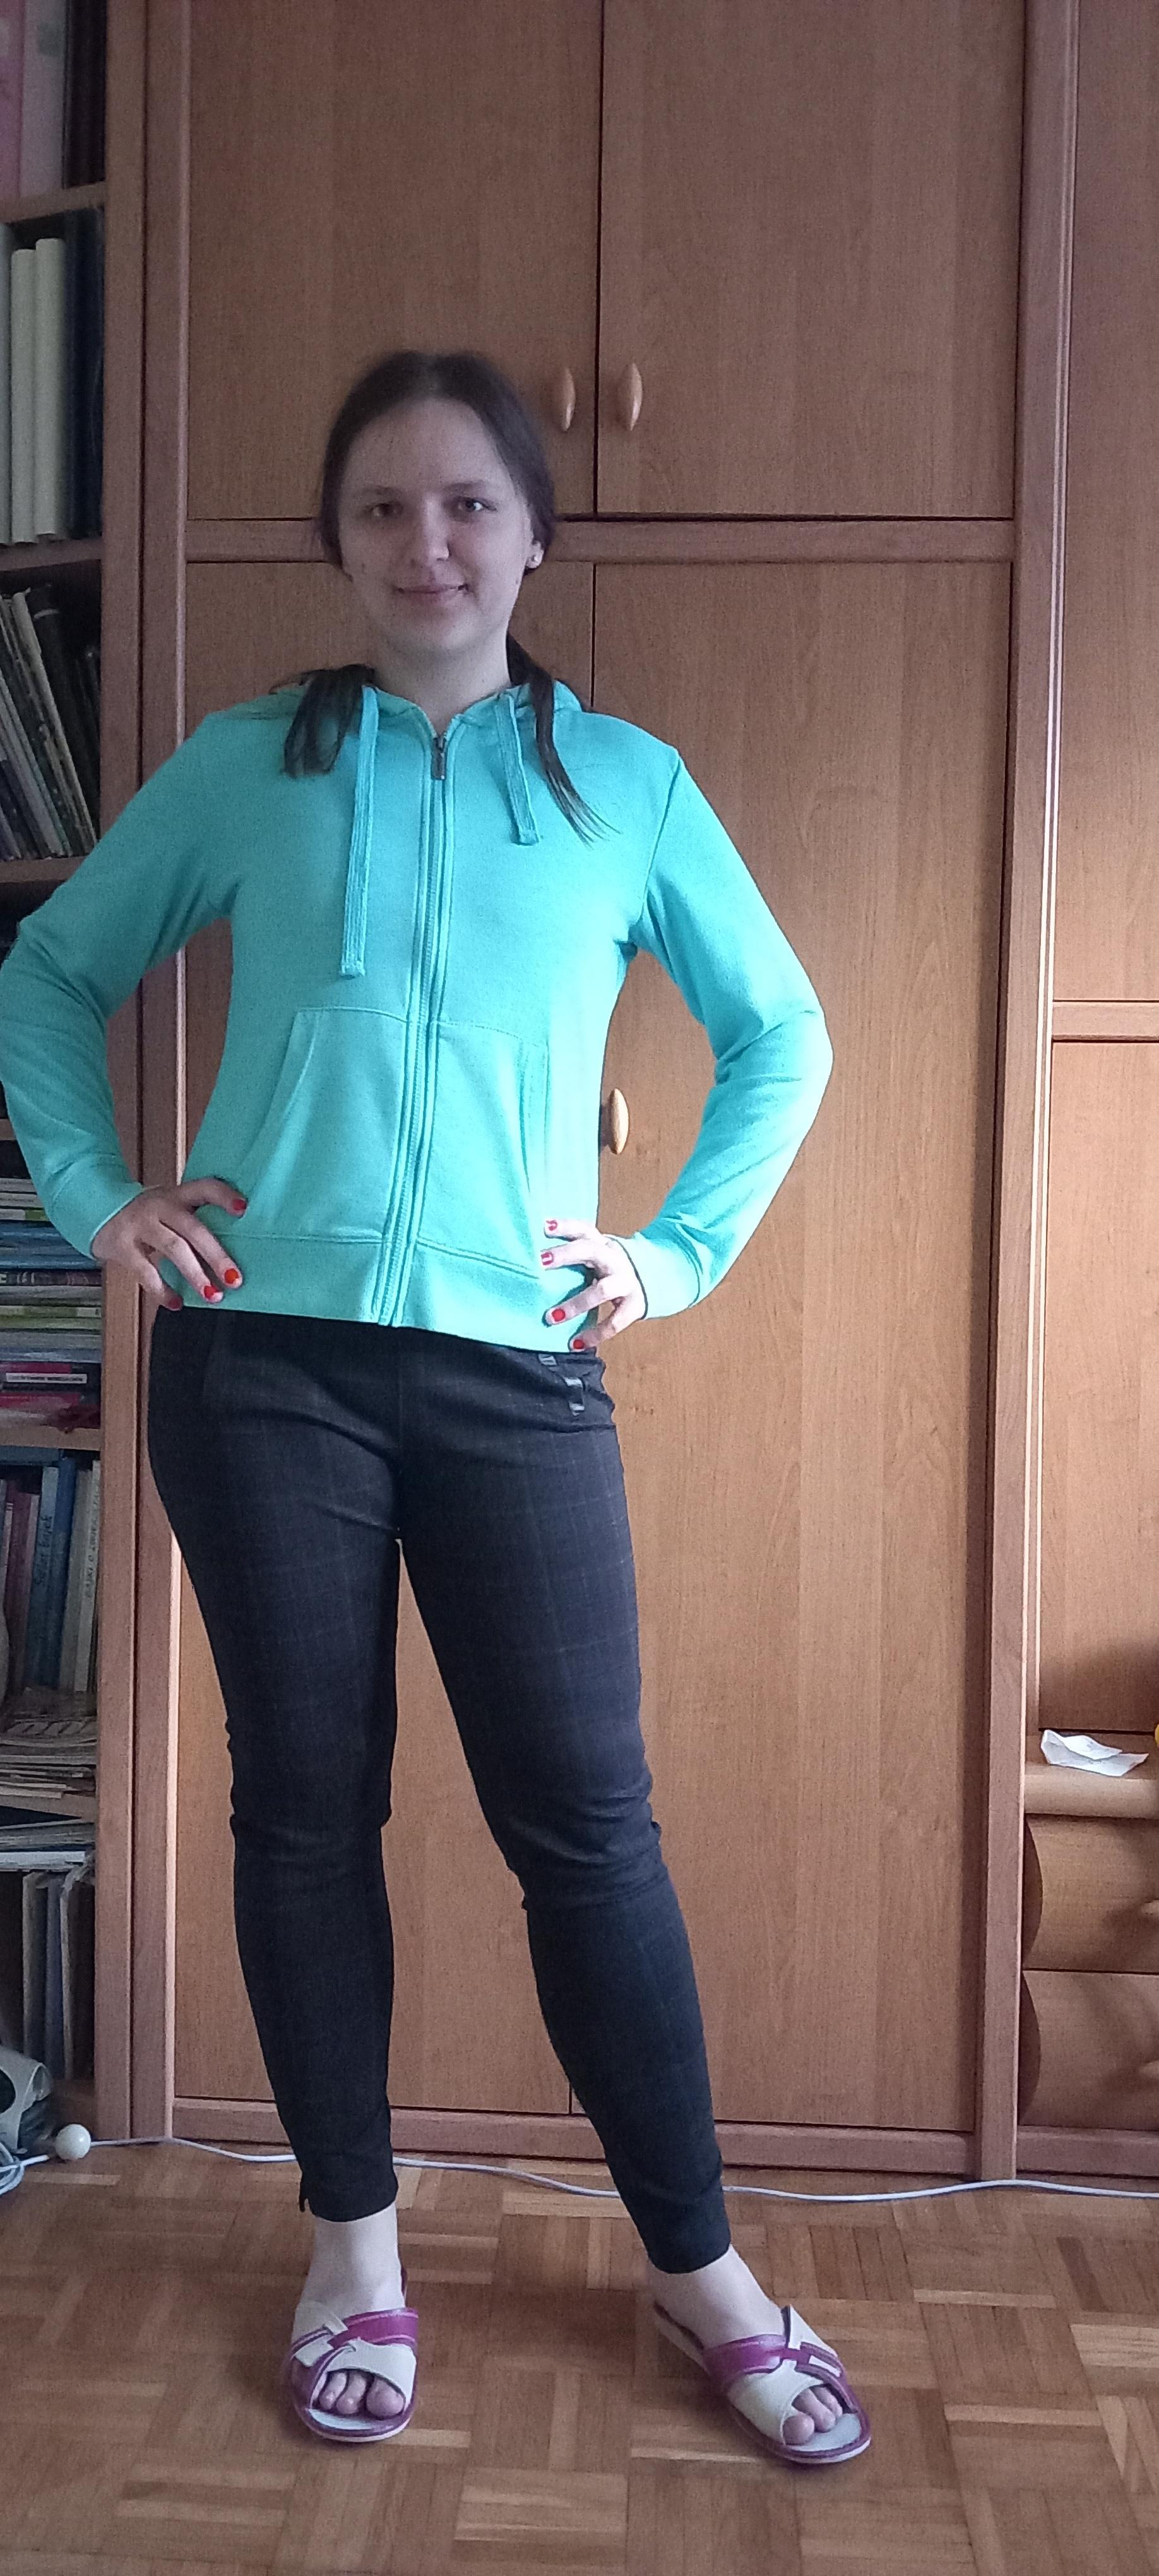pants: (144, 1304, 735, 2274)
sweater: (0, 672, 834, 1352)
